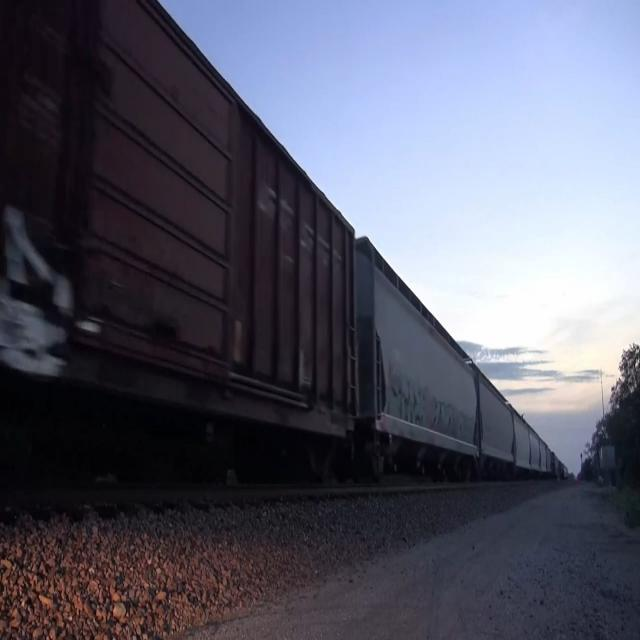boxcar: (0, 0, 366, 494)
hopper: (357, 221, 479, 480)
